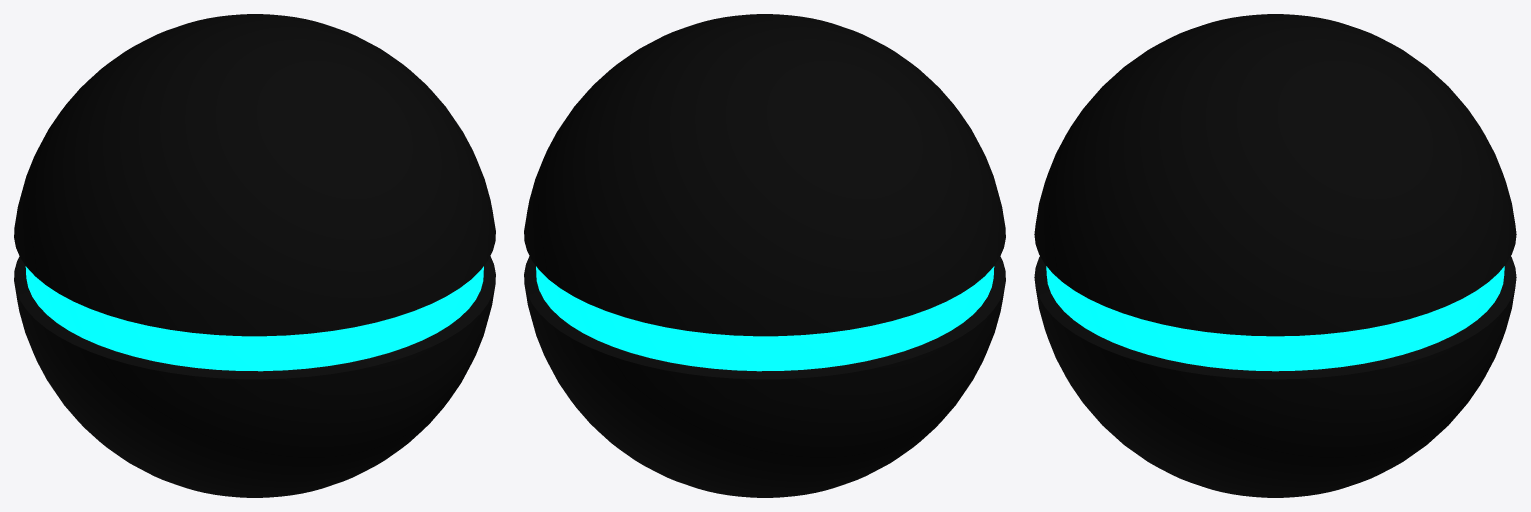
Rendered from physball.glb.
3 renders of one model, left to right at view 1: azimuth 30°, elevation 25°; view 2: azimuth 150°, elevation 25°; view 3: azimuth 270°, elevation 25°, orthographic.
Visible parts, largest first — view 1: Sphere; view 2: Sphere; view 3: Sphere.
Part boxes in pixels (x1=…): Sphere: x1=14, y1=14, x2=495, y2=497; Sphere: x1=524, y1=14, x2=1005, y2=497; Sphere: x1=1034, y1=14, x2=1516, y2=497.
Bounding box in the file's own units: 0.4976 × 0.5 × 0.4976.
